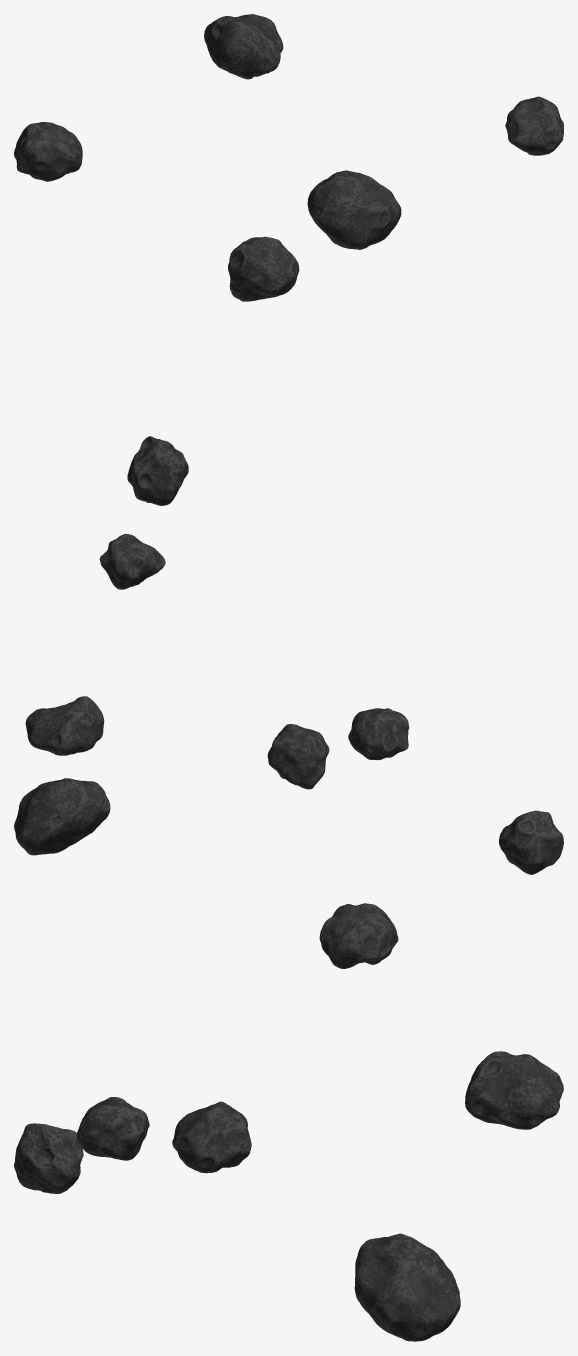
Rendered from asteroid_group_1.glb.
3 renders of one model, top to bottom at view 1: azimuth 30°, elevation 25°; view 2: azimuth 150°, elevation 25°; view 3: azimuth 270°, elevation 25°, orthographic. The views are drawn at different scales.
Visible parts, largest first — view 1: uvlayout1; view 2: uvlayout1; view 3: uvlayout1.
Boxes of the visible parts, x1,y1,x2,y2 form: uvlayout1: (14, 14, 563, 505); uvlayout1: (14, 534, 563, 874); uvlayout1: (14, 903, 563, 1341).
Bounding box in the file's own units: 0.0817 × 0.0479 × 0.0761.
Materials: 1 (1 with a texture image).
